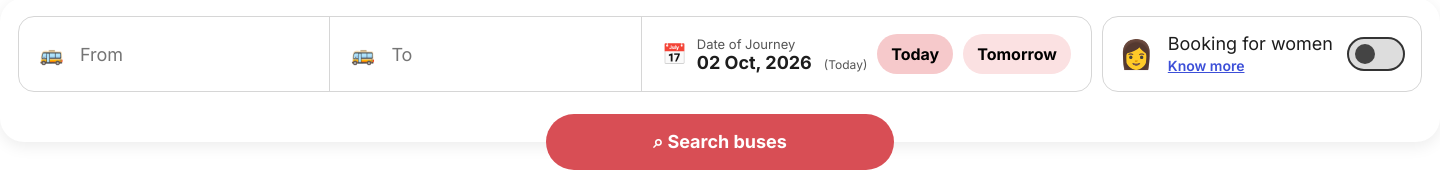
Scenario: SearchCard › switches to tomorrow's date when Tomorrow is clicked
What coordinates should you click on to do the following:
click the button "Tomorrow"
I would click on:
 (1017, 54)
Its box is [963,34,1071,74].
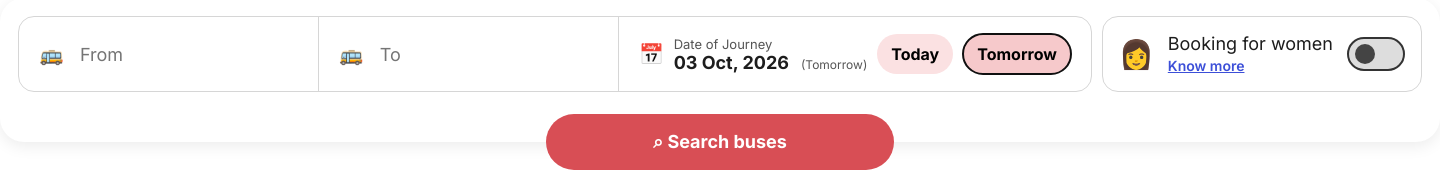
Result: the text "03 Oct, 2026" is shown at [674,52,789,72]
Result: the text "(Tomorrow)" is shown at [801,56,867,72]
